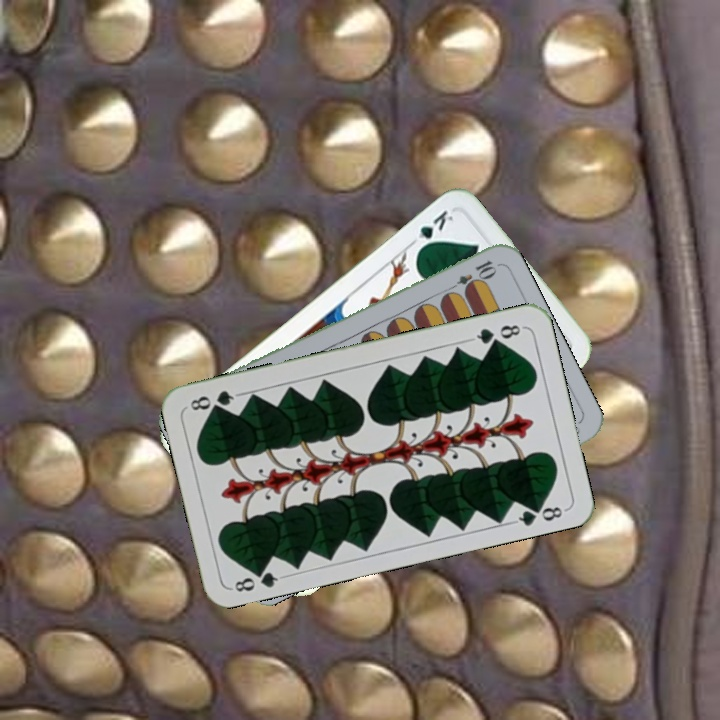E10: (443, 256, 499, 296)
G8: (228, 562, 287, 595), (468, 320, 526, 347)
GK: (405, 205, 456, 255)
